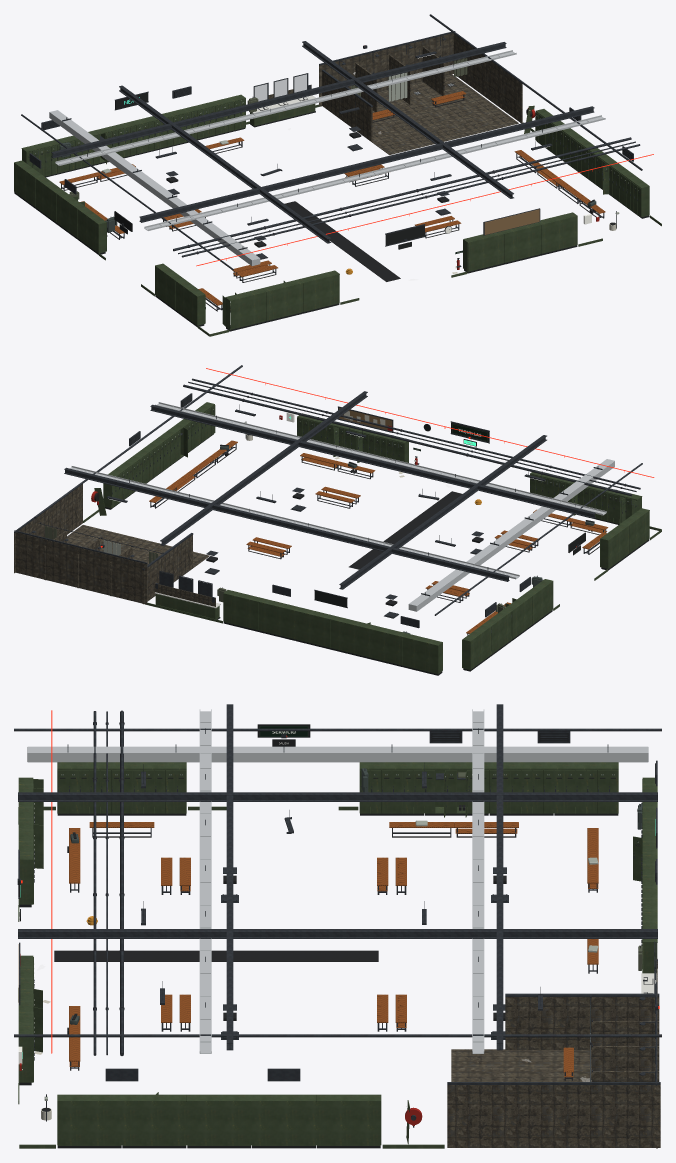
The model's file is vestuarios_art.glb.
3 views of the same model, one above another, from view 1: azimuth 30°, elevation 25°; view 2: azimuth 150°, elevation 25°; view 3: azimuth 270°, elevation 25° (orthographic). The views are drawn at different scales.
Parts seen in each view (by area): view 1: VEST_Ceiling_Pipes_CABLE, VEST_Shower_TileWalls, VEST_Shower_Platform_Tile, VEST_CeilingBeam_X_01, VEST_CeilingBeam_X_02, VEST_CeilingBeam_Y_01, VEST_CeilingBeam_Y_02, VEST_Vanity_Counter, VEST_LockerBank_SW_01, VEST_LockerBank_SE_01, VEST_Runner_Main_MAT, VEST_LockerBank_SW_02 (+22 smaller); view 2: VEST_Ceiling_Pipes_CABLE, VEST_Shower_TileWalls, VEST_CeilingBeam_X_01, VEST_CeilingBeam_X_02, VEST_Vanity_Counter, VEST_Shower_Platform_Tile, VEST_CeilingBeam_Y_01, VEST_CeilingBeam_Y_02, VEST_LockerBank_N_01, VEST_LockerBank_N_06, VEST_LockerBank_N_02, VEST_LockerBank_N_03 (+22 smaller); view 3: VEST_Ceiling_Pipes_CABLE, VEST_Shower_TileWalls, VEST_CeilingBeam_Y_01, VEST_CeilingBeam_Y_02, VEST_Shower_Platform_Tile, VEST_LockerBank_E_03, VEST_LockerBank_E_05, VEST_LockerBank_E_04, VEST_Runner_Main_MAT, VEST_LockerBank_E_02, VEST_LockerBank_E_01, VEST_LockerBank_WN_04 (+16 smaller).
Part boxes in pixels (bbox=[...]): VEST_Ceiling_Pipes_CABLE: bbox=[21, 14, 653, 270]; VEST_Shower_TileWalls: bbox=[319, 31, 522, 141]; VEST_Shower_Platform_Tile: bbox=[358, 74, 518, 154]; VEST_CeilingBeam_X_01: bbox=[139, 106, 594, 222]; VEST_CeilingBeam_X_02: bbox=[51, 42, 506, 158]; VEST_CeilingBeam_Y_01: bbox=[119, 85, 331, 243]; VEST_CeilingBeam_Y_02: bbox=[302, 41, 513, 198]; VEST_Vanity_Counter: bbox=[249, 73, 315, 127]; VEST_LockerBank_SW_01: bbox=[222, 288, 266, 331]; VEST_LockerBank_SE_01: bbox=[463, 231, 504, 273]; VEST_Runner_Main_MAT: bbox=[284, 201, 400, 281]; VEST_LockerBank_SW_02: bbox=[262, 279, 303, 322]; VEST_Ceiling_Pipes_CABLE: bbox=[34, 365, 654, 615]; VEST_Shower_TileWalls: bbox=[14, 484, 193, 604]; VEST_CeilingBeam_X_01: bbox=[150, 404, 595, 518]; VEST_CeilingBeam_X_02: bbox=[64, 467, 509, 581]; VEST_Vanity_Counter: bbox=[154, 571, 220, 619]; VEST_Shower_Platform_Tile: bbox=[67, 525, 209, 572]; VEST_CeilingBeam_Y_01: bbox=[339, 435, 546, 589]; VEST_CeilingBeam_Y_02: bbox=[160, 391, 367, 545]; VEST_LockerBank_N_01: bbox=[402, 633, 442, 675]; VEST_LockerBank_N_06: bbox=[223, 590, 263, 631]; VEST_LockerBank_N_02: bbox=[366, 624, 406, 666]; VEST_LockerBank_N_03: bbox=[330, 616, 370, 658]; VEST_Ceiling_Pipes_CABLE: bbox=[14, 709, 661, 1055]; VEST_Shower_TileWalls: bbox=[447, 982, 660, 1148]; VEST_CeilingBeam_Y_01: bbox=[18, 792, 657, 801]; VEST_CeilingBeam_Y_02: bbox=[18, 929, 657, 938]; VEST_Shower_Platform_Tile: bbox=[451, 1049, 591, 1081]; VEST_LockerBank_E_03: bbox=[186, 1094, 251, 1148]; VEST_LockerBank_E_05: bbox=[316, 1094, 381, 1148]; VEST_LockerBank_E_04: bbox=[251, 1094, 316, 1148]; VEST_Runner_Main_MAT: bbox=[54, 950, 378, 961]; VEST_LockerBank_E_02: bbox=[122, 1092, 186, 1148]; VEST_LockerBank_E_01: bbox=[57, 1094, 121, 1148]; VEST_LockerBank_WN_04: bbox=[554, 762, 618, 815].
Bounding box in the file's own units: 30 × 4.4 × 24.
28 materials, 13 textured.
